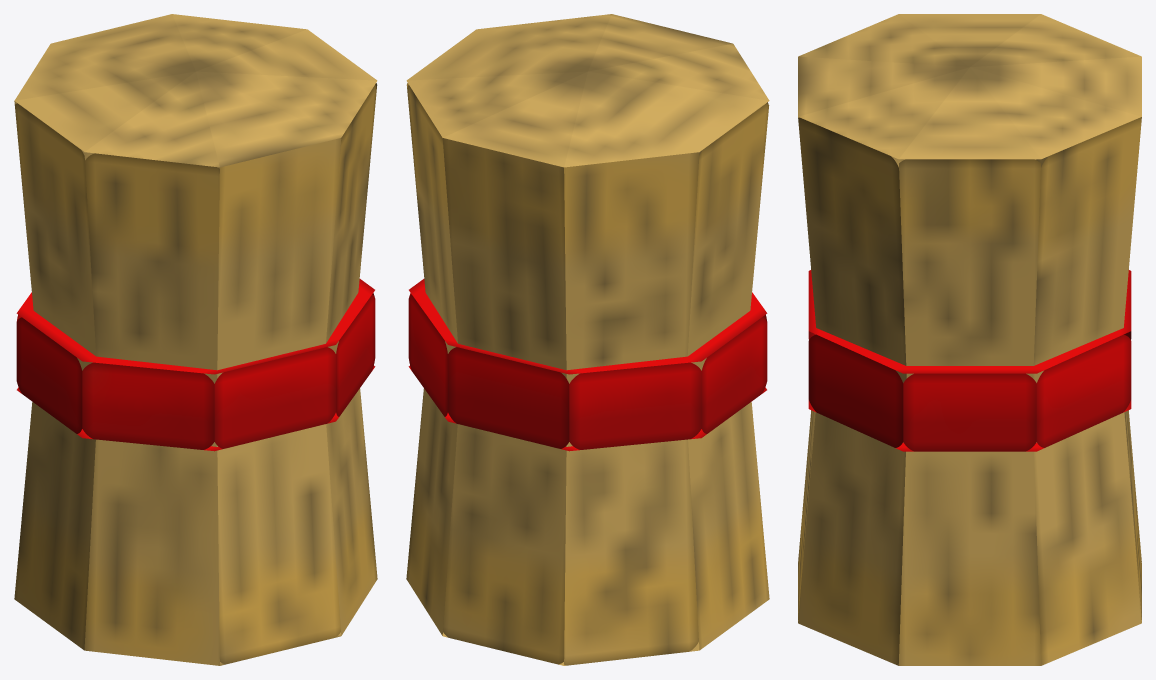
The model's file is hay.fbx.
3 renders of one model, left to right at view 1: azimuth 30°, elevation 25°; view 2: azimuth 150°, elevation 25°; view 3: azimuth 270°, elevation 25°, orthographic.
Parts seen in each view (by area): view 1: cylinder, cylinder_1; view 2: cylinder, cylinder_1; view 3: cylinder, cylinder_1.
Boxes of the visible parts, box(x1,y1,x2,y2) form: cylinder: box(14, 14, 377, 665); cylinder_1: box(16, 279, 375, 451); cylinder: box(406, 14, 769, 665); cylinder_1: box(408, 279, 767, 451); cylinder: box(798, 14, 1141, 665); cylinder_1: box(808, 270, 1131, 451).
Bounding box in the file's own units: 100 × 175 × 100.
1 material, 1 textured.
